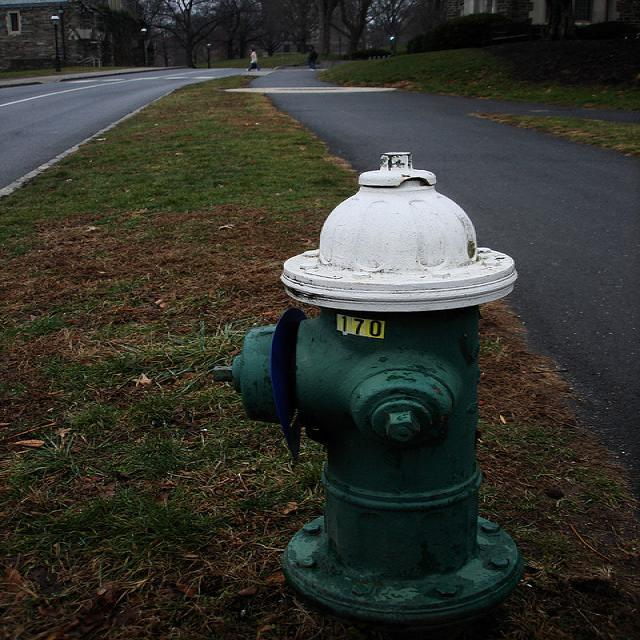fire_hydrant: (220, 152, 523, 618)
